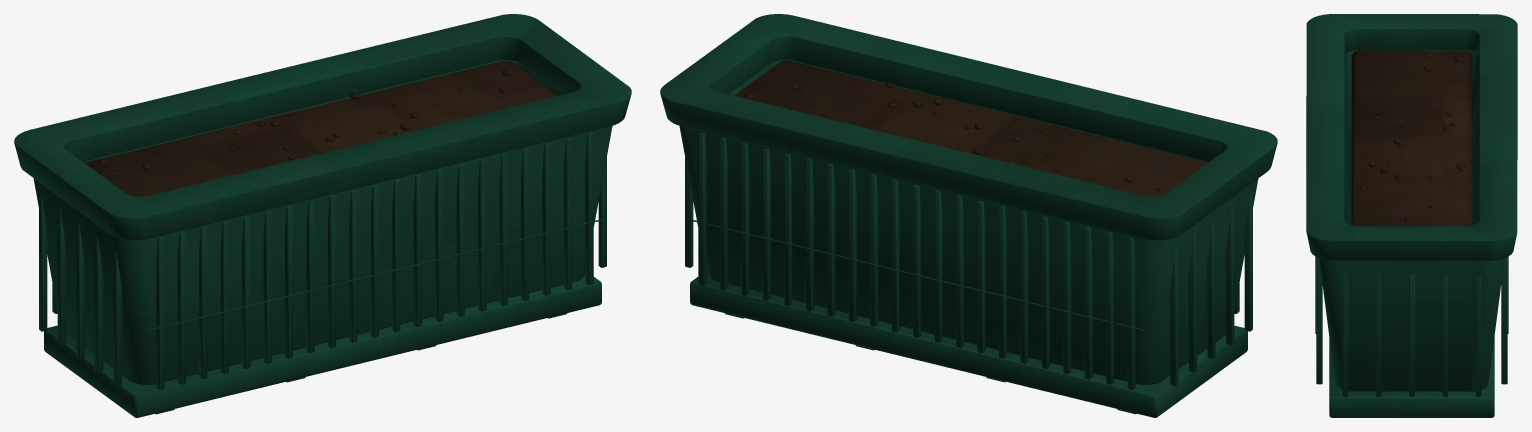
File: planter-lod1.glb
The picture shows the model from 3 angles, left to right: view 1: azimuth 30°, elevation 25°; view 2: azimuth 150°, elevation 25°; view 3: azimuth 270°, elevation 25°; orthographic projection. The views are drawn at different scales.
Visible parts, largest first — view 1: GEO-Planter-LOD1; view 2: GEO-Planter-LOD1; view 3: GEO-Planter-LOD1.
Part boxes in pixels (bbox=[...]): GEO-Planter-LOD1: bbox=[14, 14, 631, 417]; GEO-Planter-LOD1: bbox=[660, 14, 1277, 417]; GEO-Planter-LOD1: bbox=[1306, 14, 1517, 417].
Size of the model in its own units: 0.5977 by 0.2443 by 0.2354.
Materials: 2 (2 with a texture image).
